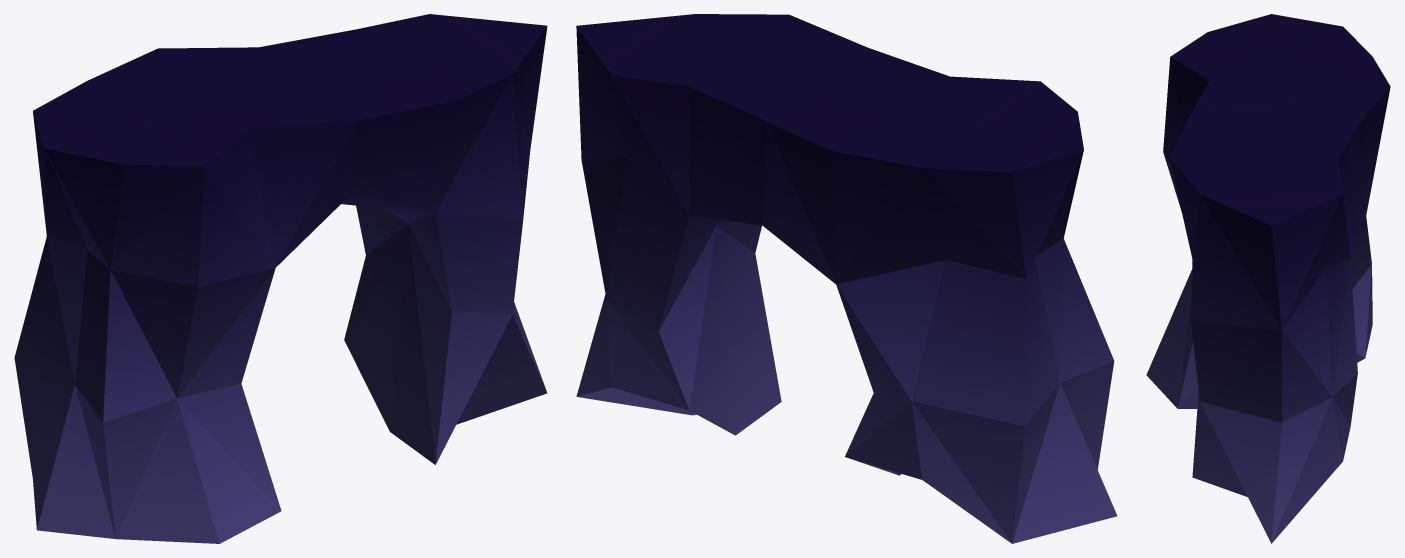
Rendered from MOD_PlatformV2_hoog.fbx.
The picture shows the model from 3 angles, left to right: view 1: azimuth 30°, elevation 25°; view 2: azimuth 150°, elevation 25°; view 3: azimuth 270°, elevation 25°; orthographic projection. The views are drawn at different scales.
Parts seen in each view (by area): view 1: MOD_PlatformV2_hoog; view 2: MOD_PlatformV2_hoog; view 3: MOD_PlatformV2_hoog.
Boxes of the visible parts, <box> form: MOD_PlatformV2_hoog: <box>14,14,547,543</box>; MOD_PlatformV2_hoog: <box>576,14,1117,543</box>; MOD_PlatformV2_hoog: <box>1146,14,1390,543</box>.
Size of the model in its own units: 5.16 by 3.51 by 2.41.
1 material, 1 textured.
